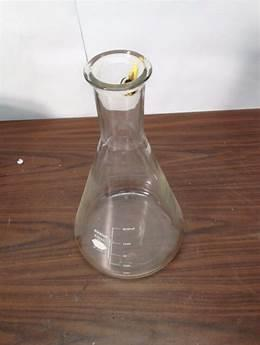Titrarion: (72, 40, 186, 283)
